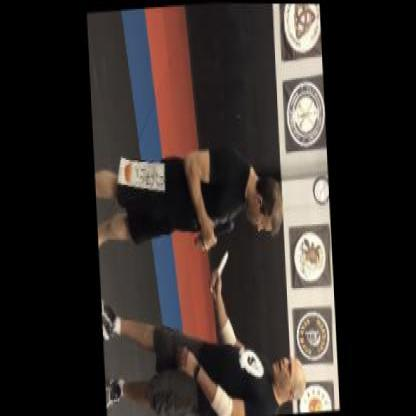knife: (204, 245, 230, 292)
